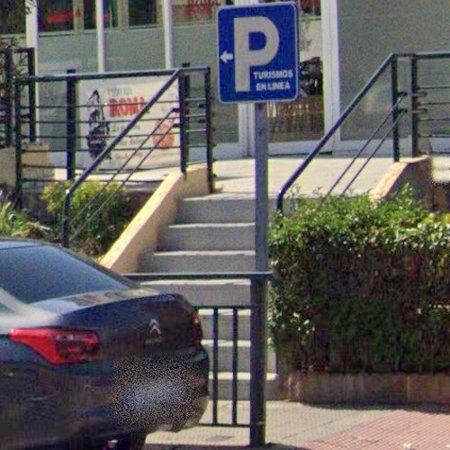stairs: (144, 280, 250, 369), (139, 193, 254, 274), (219, 310, 234, 374), (238, 310, 251, 382)
